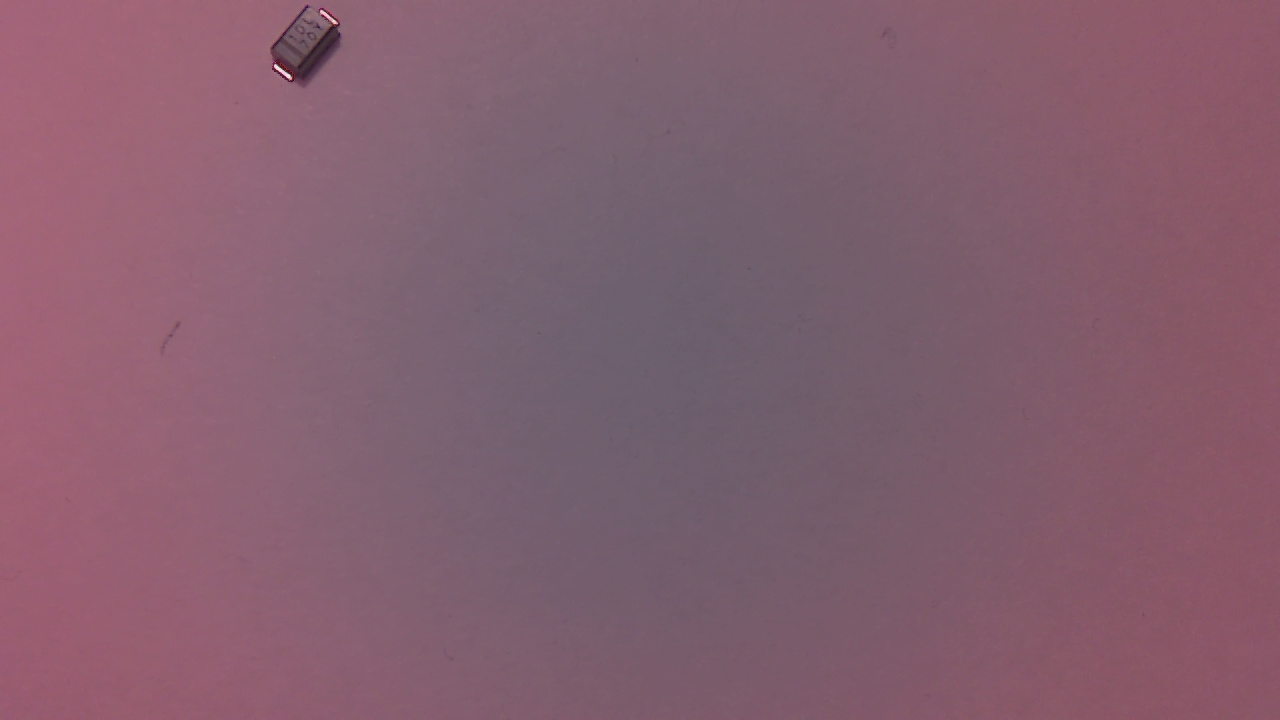Diode: (270, 9, 352, 95)
